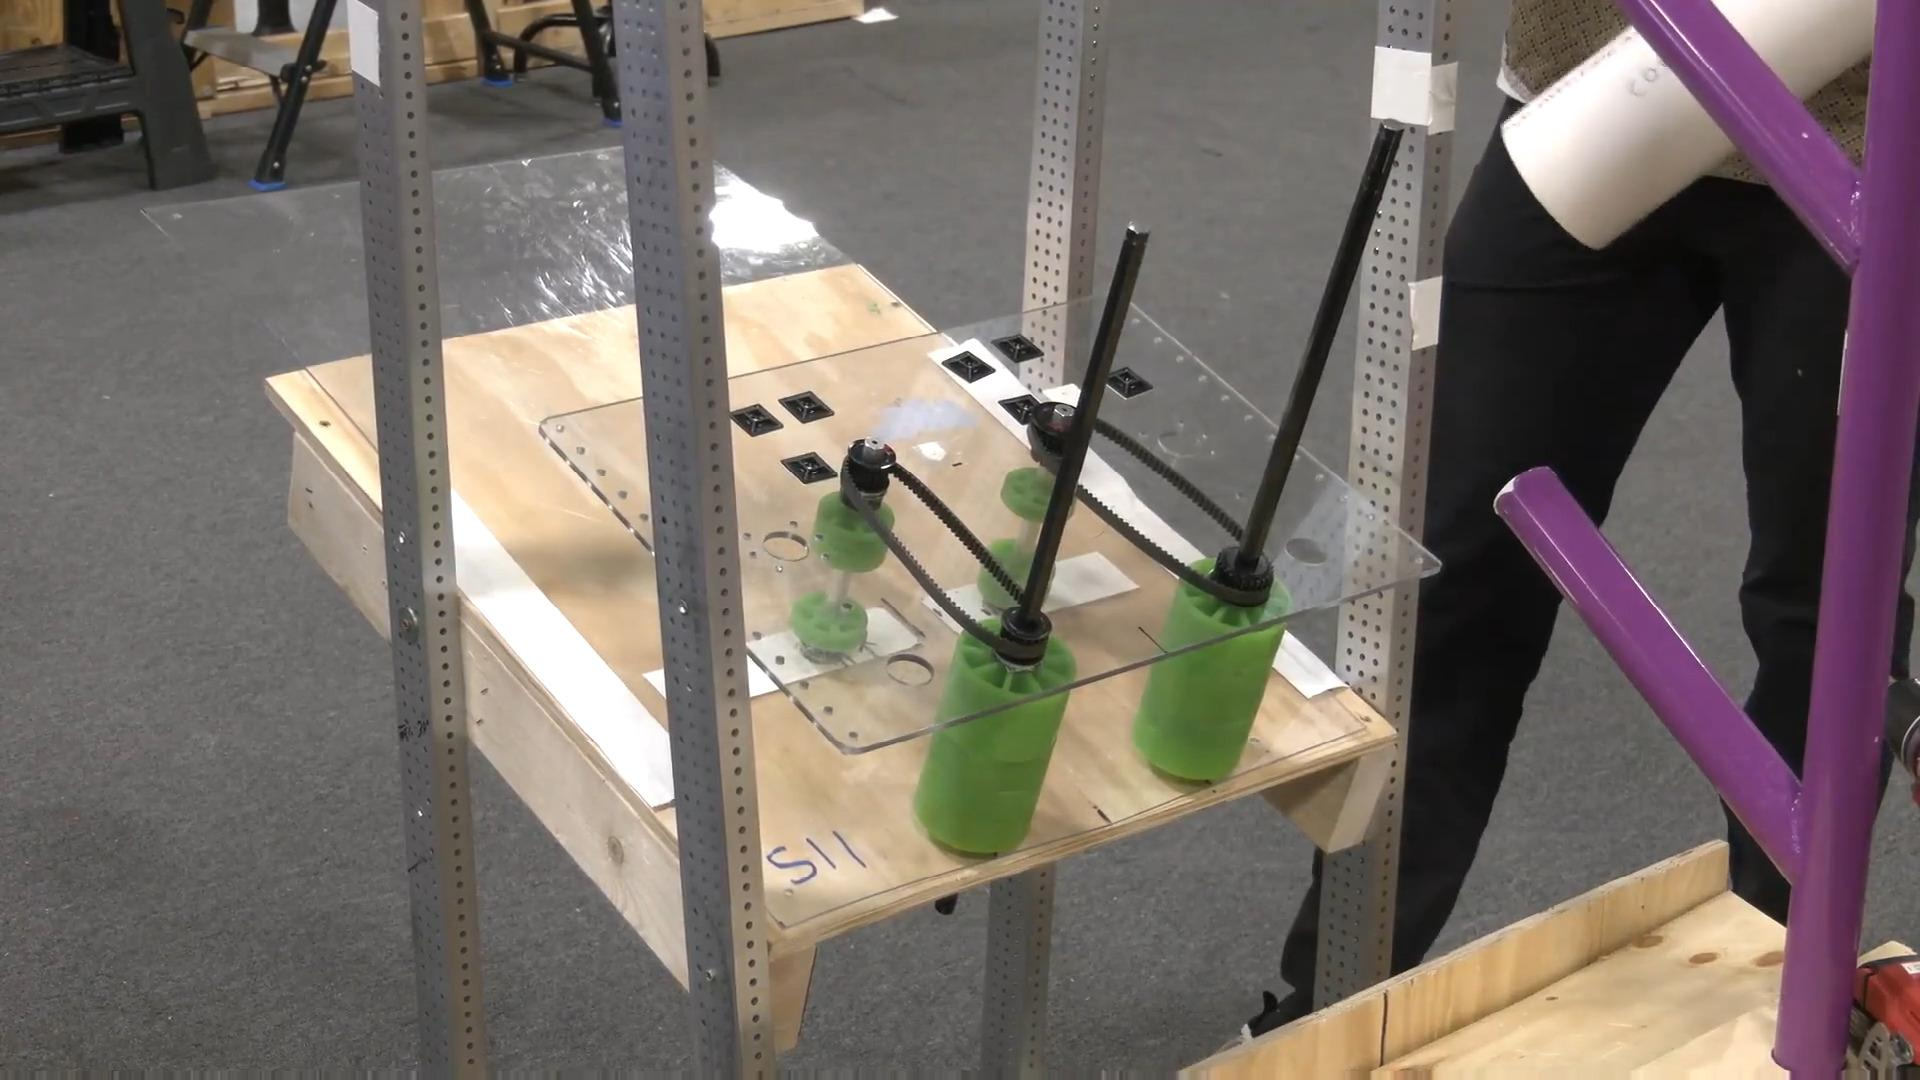coral: (1497, 0, 1907, 252)
